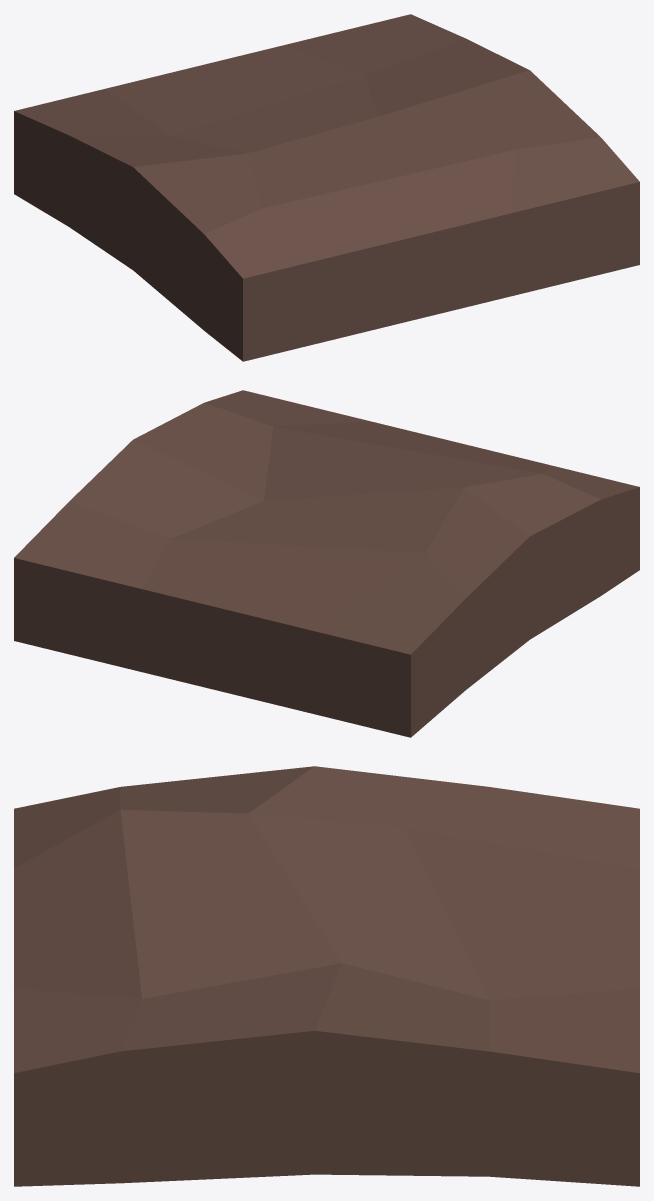
Rendered from Cave_Ceiling_Low.fbx.
3 views of the same model, one above another, from view 1: azimuth 30°, elevation 25°; view 2: azimuth 150°, elevation 25°; view 3: azimuth 270°, elevation 25° (orthographic). The views are drawn at different scales.
Parts seen in each view (by area): view 1: Cave_Ceiling_Low; view 2: Cave_Ceiling_Low; view 3: Cave_Ceiling_Low.
Part boxes in pixels (<box>): Cave_Ceiling_Low: <box>14,14,639,361</box>; Cave_Ceiling_Low: <box>14,390,639,737</box>; Cave_Ceiling_Low: <box>14,766,639,1186</box>.
Size of the model in its own units: 5 by 5 by 1.49.
